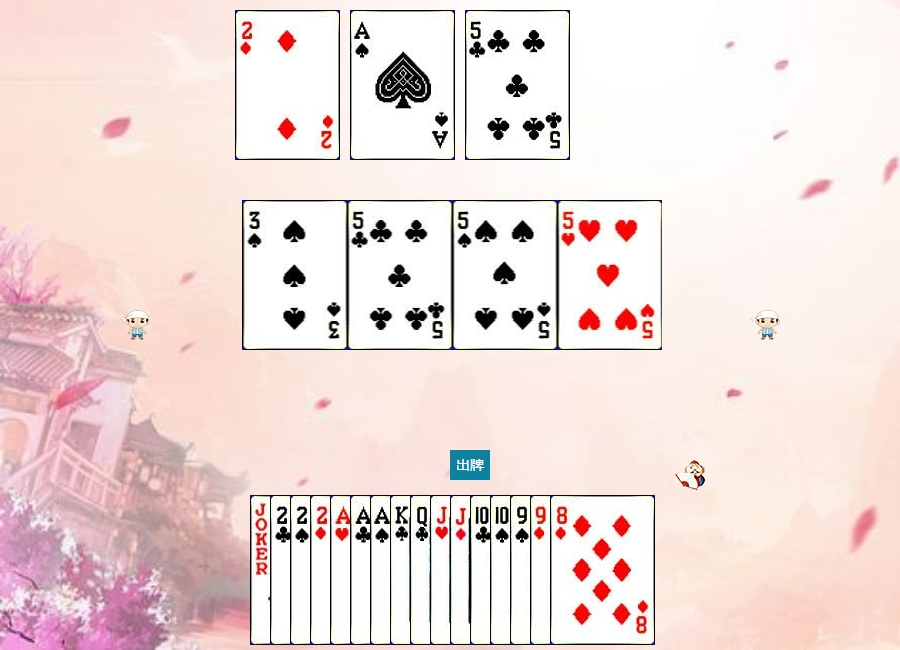10~2: (470, 495, 575, 645)
10~4: (490, 495, 595, 645)
11~1: (450, 495, 555, 645)
11~3: (430, 495, 535, 645)
12~2: (410, 495, 515, 645)
13~2: (390, 495, 495, 645)
14~2: (350, 495, 455, 645)
14~3: (330, 495, 435, 645)
14~4: (350, 10, 455, 160), (370, 495, 475, 645)
15~1: (235, 10, 340, 160), (310, 495, 415, 645)
15~2: (270, 495, 375, 645)
15~4: (290, 495, 395, 645)
18~4: (250, 495, 355, 645)
3~4: (243, 200, 348, 350)
5~2: (465, 10, 570, 160), (348, 200, 453, 350)
5~3: (558, 200, 663, 350)
5~4: (453, 200, 558, 350)
8~1: (550, 495, 655, 645)
9~1: (530, 495, 635, 645)
9~4: (510, 495, 615, 645)
